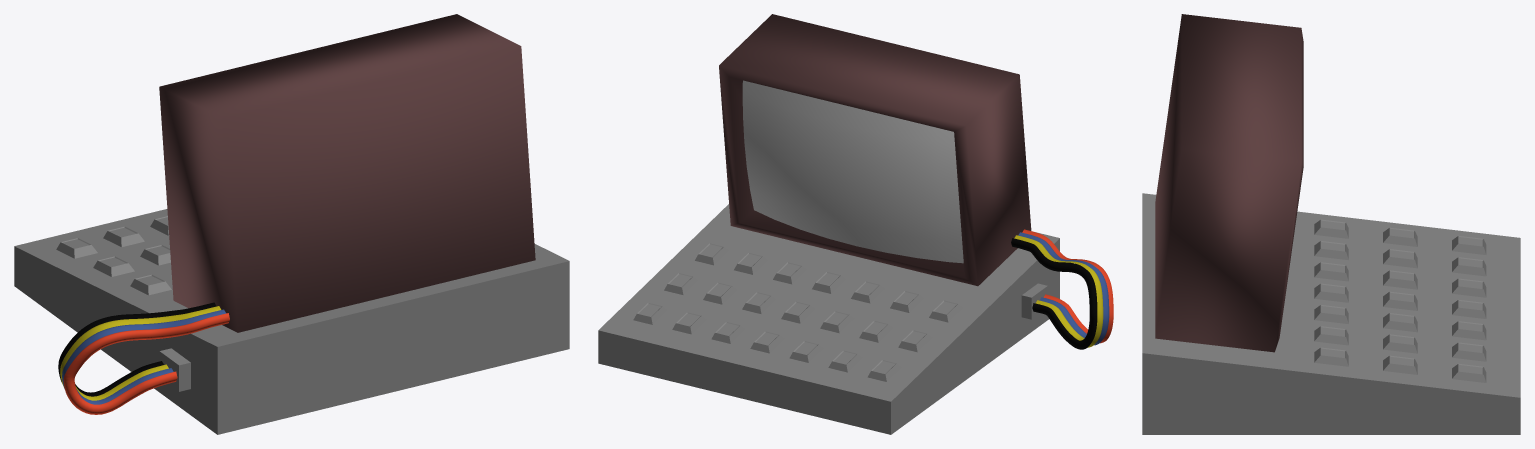
Rendered from computer_v3.glb.
3 views of the same model, side by side, from view 1: azimuth 30°, elevation 25°; view 2: azimuth 150°, elevation 25°; view 3: azimuth 270°, elevation 25° (orthographic). The views are drawn at different scales.
Visible parts, largest first — view 1: monitor_LP, KB_LP, cable_LP; view 2: KB_LP, monitor_LP, screen, cable_LP; view 3: KB_LP, monitor_LP.
Part boxes in pixels (bbox=[...]): monitor_LP: bbox=[159, 14, 535, 332]; KB_LP: bbox=[14, 209, 569, 434]; cable_LP: bbox=[58, 302, 229, 414]; KB_LP: bbox=[598, 204, 1059, 434]; monitor_LP: bbox=[719, 14, 1031, 286]; screen: bbox=[742, 80, 963, 263]; cable_LP: bbox=[1011, 229, 1113, 349]; KB_LP: bbox=[1142, 193, 1520, 434]; monitor_LP: bbox=[1155, 14, 1303, 352].
Size of the model in its own units: 0.602 by 0.3665 by 0.4597.
Materials: 6 (1 with a texture image).
